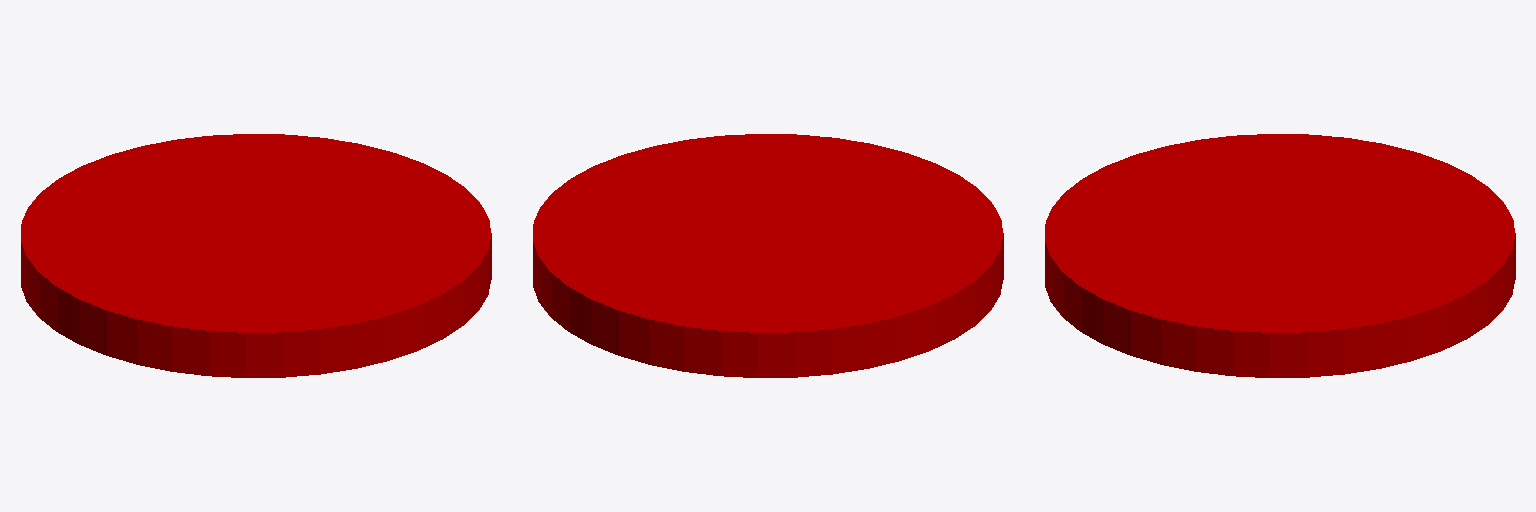
URDF robot description (output-connector-l.SLDASM):
<?xml version="1.0" encoding="utf-8"?>
<!-- This URDF was automatically created by SolidWorks to URDF Exporter! Originally created by [author] ([email redacted]) 
     Commit Version: 1.6.0-4-g7f85cfe  Build Version: 1.6.7995.38578
     For more information, please see http://wiki.ros.org/sw_urdf_exporter -->
<robot
  name="output-connector-l.SLDASM">
  <link
    name="o_virtual_Link_1">
    <inertial>
      <origin
        xyz="-3.9736E-34 -1.0335E-17 0.005"
        rpy="0 0 0" />
      <mass
        value="0" />
      <inertia
        ixx="0.00030345"
        ixy="-1.6987E-36"
        ixz="1.2291E-37"
        iyy="0.00030345"
        iyz="3.6451E-21"
        izz="0.00059787" />
    </inertial>
    <visual>
      <origin
        xyz="0 0 0"
        rpy="0 0 0" />
      <geometry>
        <mesh
          filename="package://output-connector-l.SLDASM/meshes/o_virtual_Link_1.STL" />
      </geometry>
      <material
        name="">
        <color
          rgba="0.79216 0 0 1" />
      </material>
    </visual>
    <collision>
      <origin
        xyz="0 0 0"
        rpy="0 0 0" />
      <geometry>
        <mesh
          filename="package://output-connector-l.SLDASM/meshes/o_virtual_Link_1.STL" />
      </geometry>
    </collision>
  </link>
  <link
    name="o_body_Link">
    <inertial>
      <origin
        xyz="-3.9736E-34 -1.0335E-17 0.005"
        rpy="0 0 0" />
      <mass
        value="0.5413" />
      <inertia
        ixx="0.00030345"
        ixy="-1.6987E-36"
        ixz="1.2291E-37"
        iyy="0.00030345"
        iyz="3.6451E-21"
        izz="0.00059787" />
    </inertial>
    <visual>
      <origin
        xyz="0 0 0"
        rpy="0 0 0" />
      <geometry>
        <mesh
          filename="package://output-connector-l.SLDASM/meshes/o_body_Link.STL" />
      </geometry>
      <material
        name="">
        <color
          rgba="0.79216 0 0 1" />
      </material>
    </visual>
    <collision>
      <origin
        xyz="0 0 0"
        rpy="0 0 0" />
      <geometry>
        <mesh
          filename="package://output-connector-l.SLDASM/meshes/o_body_Link.STL" />
      </geometry>
    </collision>
  </link>
  <joint
    name="o_fixed_Joint_1"
    type="fixed">
    <origin
      xyz="0 0 0"
      rpy="0 0 0" />
    <parent
      link="o_virtual_Link_1" />
    <child
      link="o_body_Link" />
    <axis
      xyz="0 0 0" />
  </joint>
  <link
    name="o_virtual_Link_2">
    <inertial>
      <origin
        xyz="-5.6766E-35 7.1251E-18 0.005"
        rpy="0 0 0" />
      <mass
        value="0" />
      <inertia
        ixx="0.00030345"
        ixy="1.6987E-36"
        ixz="1.2291E-37"
        iyy="0.00030345"
        iyz="-3.6451E-21"
        izz="0.00059787" />
    </inertial>
    <visual>
      <origin
        xyz="0 0 0"
        rpy="0 0 0" />
      <geometry>
        <mesh
          filename="package://output-connector-l.SLDASM/meshes/o_virtual_Link_2.STL" />
      </geometry>
      <material
        name="">
        <color
          rgba="0.79216 0 0 1" />
      </material>
    </visual>
    <collision>
      <origin
        xyz="0 0 0"
        rpy="0 0 0" />
      <geometry>
        <mesh
          filename="package://output-connector-l.SLDASM/meshes/o_virtual_Link_2.STL" />
      </geometry>
    </collision>
  </link>
  <joint
    name="o_fixed_Joint_2"
    type="fixed">
    <origin
      xyz="0 0 0.01"
      rpy="3.1416 0 3.1416" />
    <parent
      link="o_body_Link" />
    <child
      link="o_virtual_Link_2" />
    <axis
      xyz="0 0 0" />
  </joint>
</robot>

--- Render facts (derived) ---
Views: 3 orthographic renders of the robot side by side, from view 1: azimuth 30°, elevation 25°; view 2: azimuth 150°, elevation 25°; view 3: azimuth 270°, elevation 25°.
Robot: output-connector-l.SLDASM — 3 links, 2 joints (2 fixed); root link o_virtual_Link_1; default pose: all joints at 0.
Links seen in each view (by area): view 1: o_body_Link, o_virtual_Link_2; view 2: o_body_Link, o_virtual_Link_2; view 3: o_body_Link, o_virtual_Link_2.
Boxes of the visible links, box(x1,y1,x2,y2) form: o_body_Link: box(21, 134, 491, 377); o_virtual_Link_2: box(22, 135, 490, 332); o_body_Link: box(533, 134, 1003, 377); o_virtual_Link_2: box(534, 134, 1002, 332); o_body_Link: box(1045, 134, 1515, 377); o_virtual_Link_2: box(1045, 134, 1514, 332).
Size in the robot's own frame: 0.094 by 0.0939 by 0.01 metres.
3 mesh visuals loaded from 3 distinct referenced files (3 binary STL).